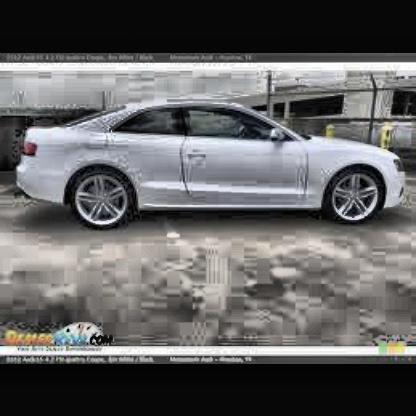Audi S5 Coupe 2012: (15, 106, 411, 228)
